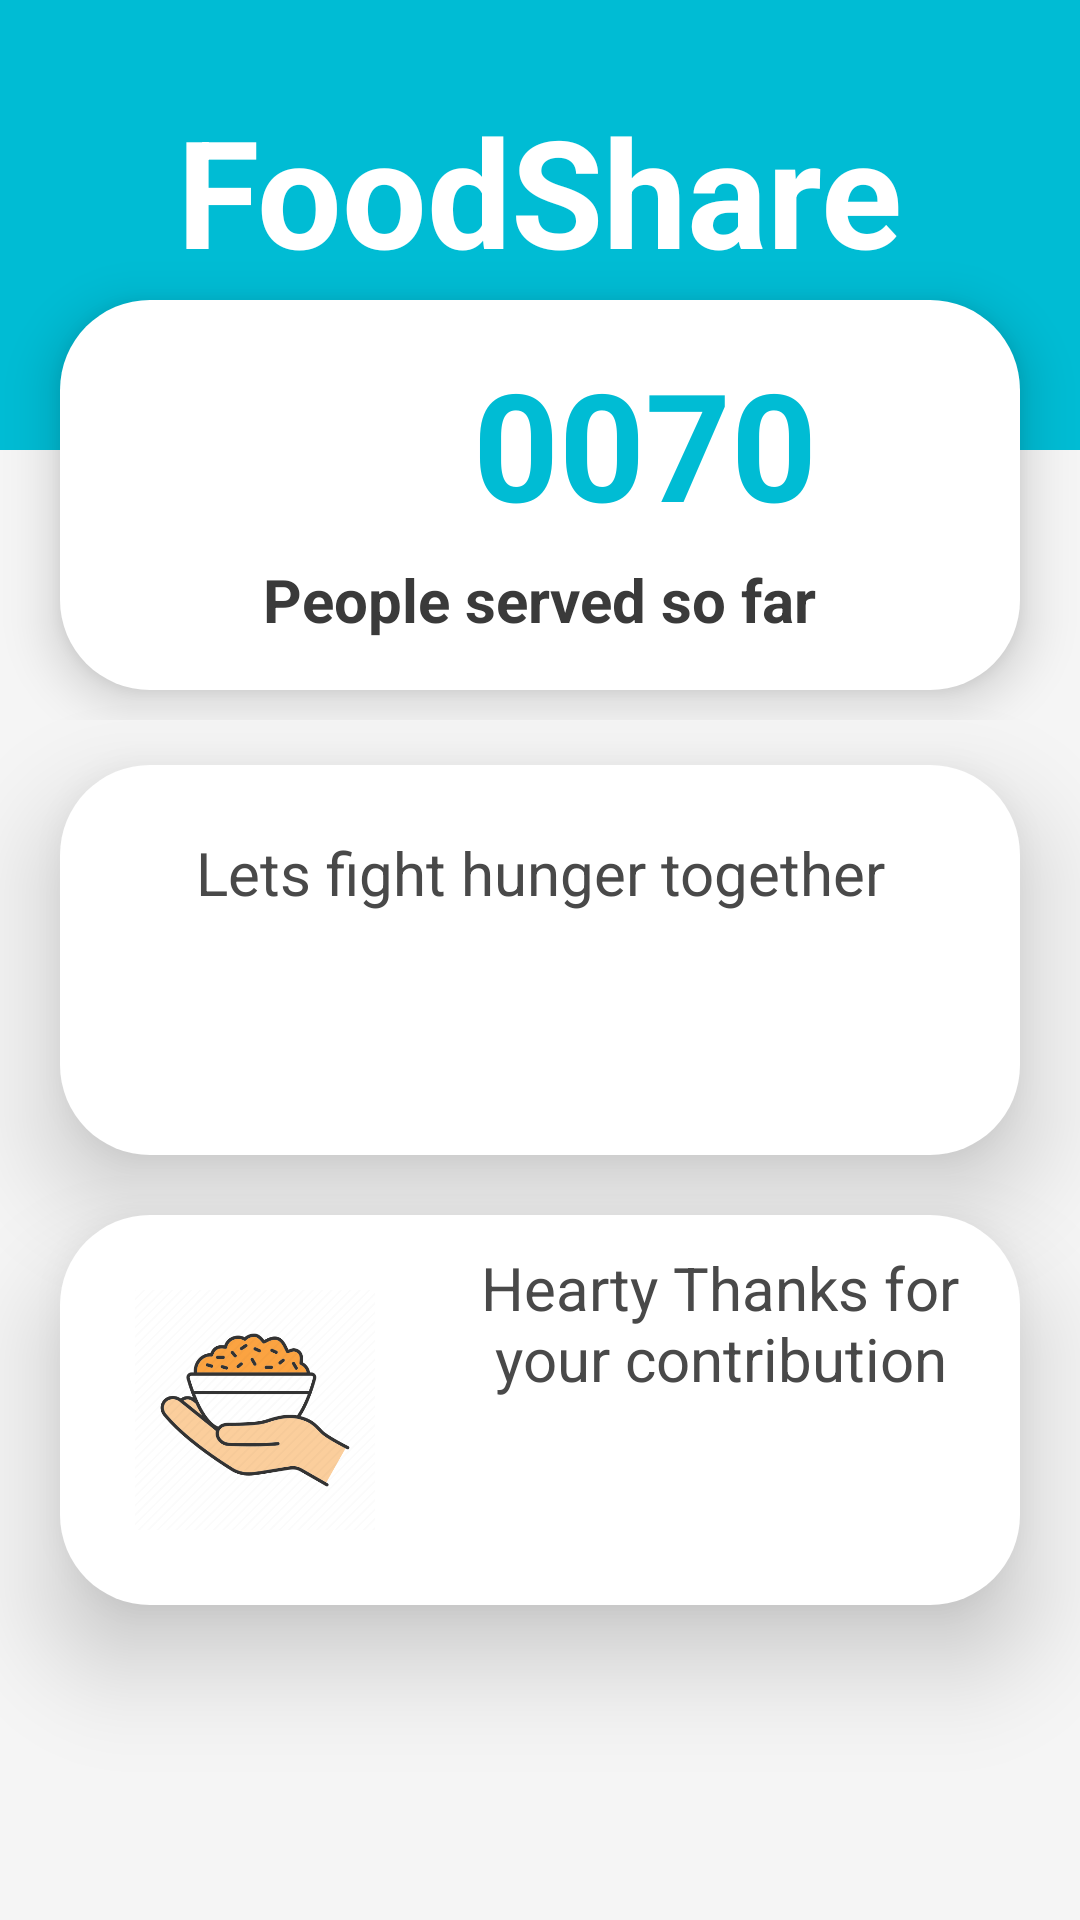

Locate icon controls on the screen. Image size 1080×1920, boxes as [x1,y1,x2,y2].
foodimage: [160,1333,350,1487]
